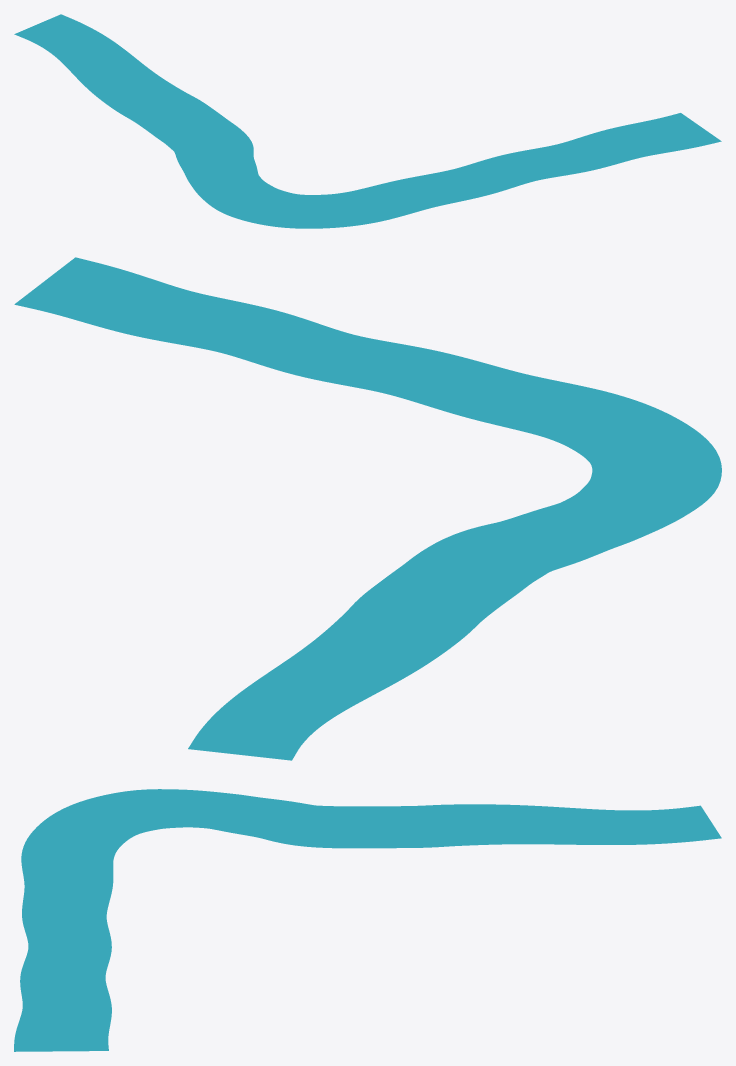
The model's file is river.glb.
3 views of the same model, one above another, from view 1: azimuth 30°, elevation 25°; view 2: azimuth 150°, elevation 25°; view 3: azimuth 270°, elevation 25° (orthographic). The views are drawn at different scales.
Parts seen in each view (by area): view 1: River; view 2: River; view 3: River.
Boxes of the visible parts, box(x1,y1,x2,y2) form: River: box(14, 14, 721, 228); River: box(14, 257, 721, 760); River: box(14, 789, 721, 1051).
Size of the model in its own units: 85.69 by 0 by 97.6.
